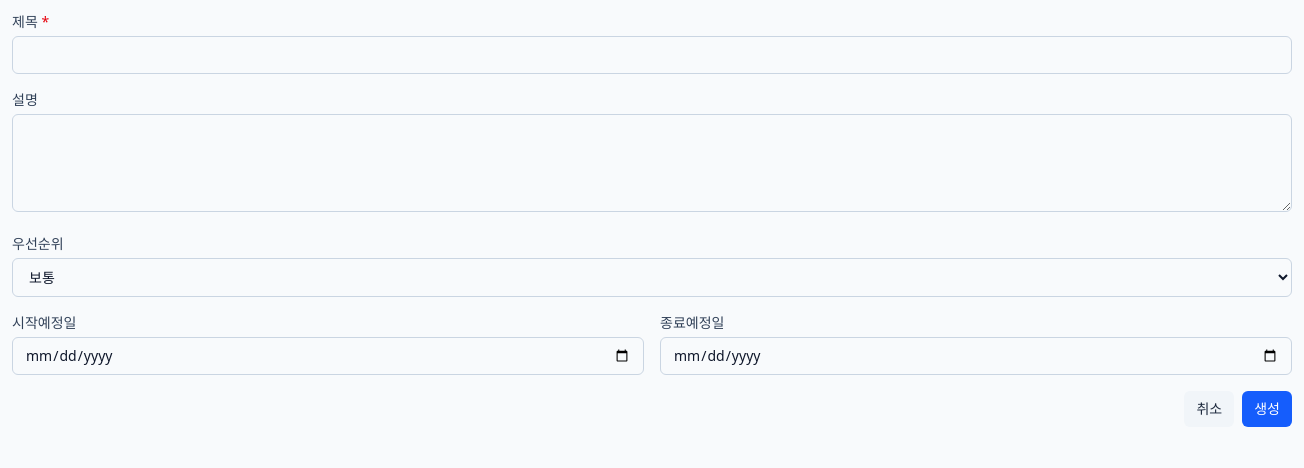
Test: TicketForm (US-001, US-002) › 제목이 비어 있으면 에러 메시지를 보여주고 제출하지 않는다
Click the button "생성" at (1267, 409), box [1242, 391, 1292, 427]
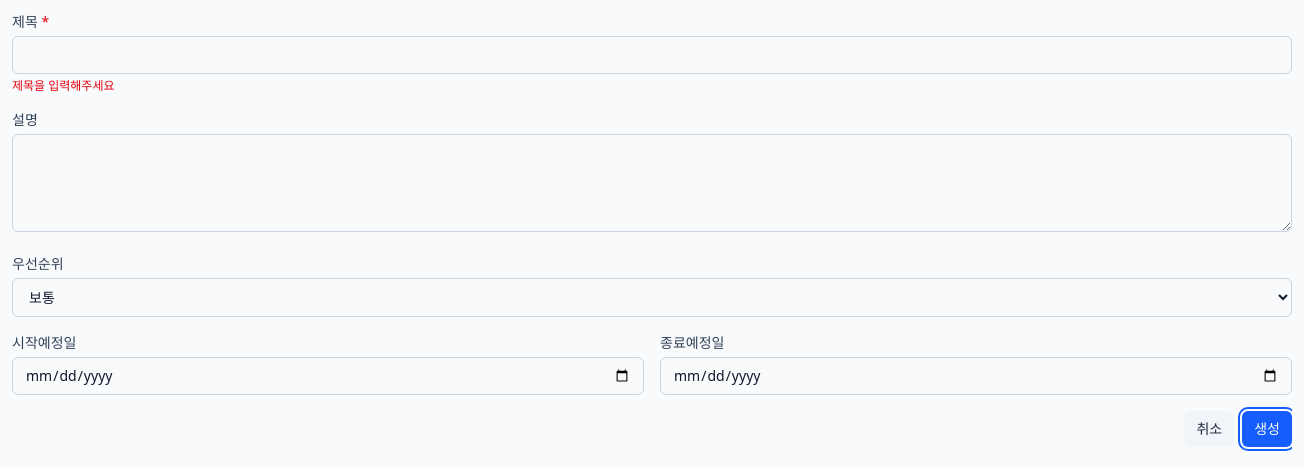
Result: the message reads "제목을 입력해주세요" at [12, 77, 114, 94]
